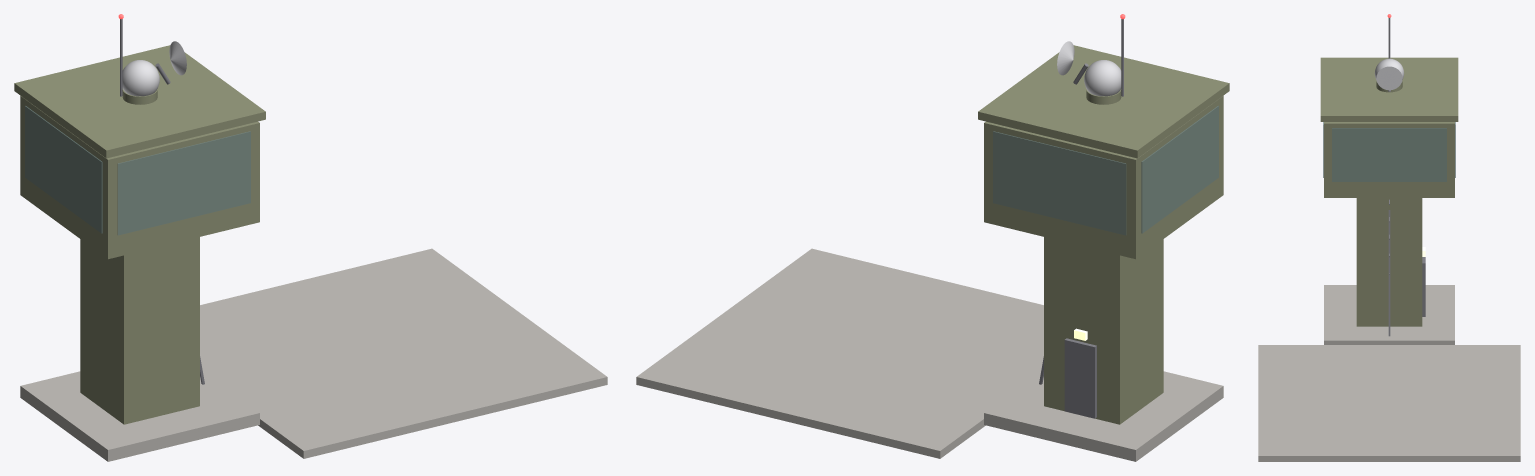
File: helipad_control_room.glb
The picture shows the model from 3 angles, left to right: view 1: azimuth 30°, elevation 25°; view 2: azimuth 150°, elevation 25°; view 3: azimuth 270°, elevation 25°; orthographic projection. The views are drawn at different scales.
Visible parts, largest first — view 1: landing_pad, cabin_body, tower_shaft, cabin_roof, win_s, base, win_w, radar_dome; view 2: landing_pad, cabin_body, tower_shaft, cabin_roof, win_n, base, win_w, tower_door, radar_dome; view 3: landing_pad, cabin_body, tower_shaft, cabin_roof, win_e, base, dish, stair_str_r.
Boxes of the visible parts, x1=… form: landing_pad: x1=200, y1=248, x2=607, y2=458; cabin_body: x1=20, y1=96, x2=259, y2=259; tower_shaft: x1=80, y1=237, x2=199, y2=424; cabin_roof: x1=14, y1=45, x2=265, y2=158; win_s: x1=117, y1=131, x2=250, y2=235; base: x1=20, y1=371, x2=259, y2=461; win_w: x1=25, y1=106, x2=102, y2=233; radar_dome: x1=122, y1=60, x2=159, y2=96; landing_pad: x1=636, y1=248, x2=1043, y2=458; cabin_body: x1=984, y1=96, x2=1223, y2=259; tower_shaft: x1=1044, y1=237, x2=1163, y2=424; cabin_roof: x1=978, y1=45, x2=1229, y2=158; win_n: x1=993, y1=131, x2=1126, y2=235; base: x1=984, y1=371, x2=1223, y2=461; win_w: x1=1141, y1=106, x2=1218, y2=233; tower_door: x1=1064, y1=338, x2=1096, y2=418; radar_dome: x1=1084, y1=60, x2=1121, y2=96; landing_pad: x1=1258, y1=345, x2=1520, y2=461; cabin_body: x1=1324, y1=122, x2=1454, y2=197; tower_shaft: x1=1356, y1=198, x2=1422, y2=326; cabin_roof: x1=1320, y1=57, x2=1458, y2=121; win_e: x1=1332, y1=128, x2=1446, y2=181; base: x1=1324, y1=285, x2=1454, y2=344; dish: x1=1376, y1=66, x2=1402, y2=90; stair_str_r: x1=1388, y1=210, x2=1390, y2=336.
Bounding box in the file's own units: 12.1 × 10.23 × 8.
